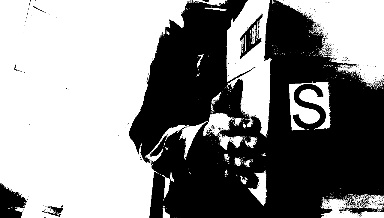S: (288, 82, 330, 130)
